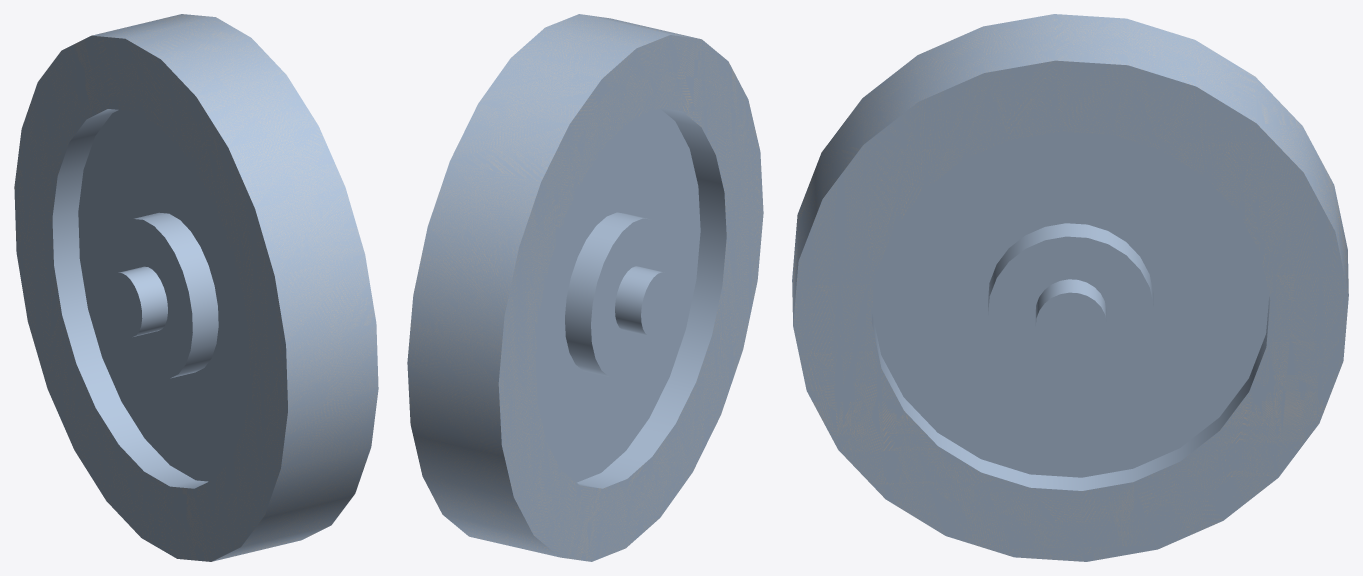
The model's file is original-38.obj.
The picture shows the model from 3 angles, left to right: view 1: azimuth 30°, elevation 25°; view 2: azimuth 150°, elevation 25°; view 3: azimuth 270°, elevation 25°; orthographic projection. The views are drawn at different scales.
Visible parts, largest first — view 1: mesh45/mesh45-geometry#mesh45-geometry; view 2: mesh45/mesh45-geometry#mesh45-geometry; view 3: mesh45/mesh45-geometry#mesh45-geometry.
Boxes of the visible parts, box(x1,y1,x2,y2) form: mesh45/mesh45-geometry#mesh45-geometry: box(14, 14, 378, 561); mesh45/mesh45-geometry#mesh45-geometry: box(407, 14, 763, 561); mesh45/mesh45-geometry#mesh45-geometry: box(792, 14, 1348, 561).
Size of the model in its own units: 0.0511 by 0.1664 by 0.1664.
